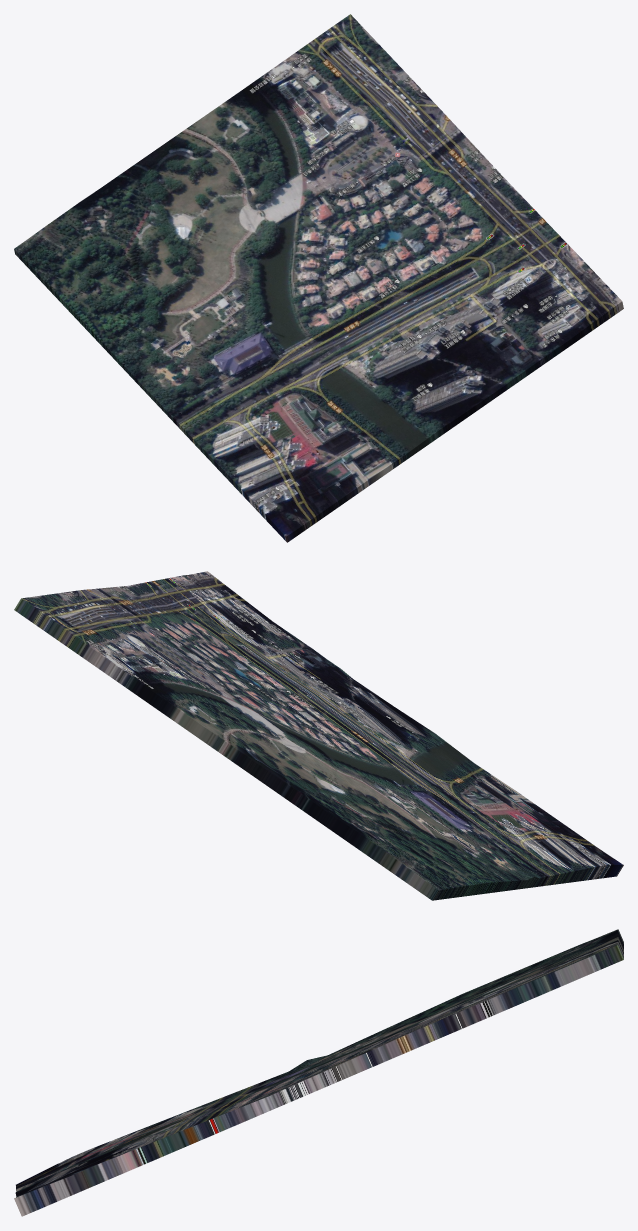
3 views of the same model, one above another, from view 1: azimuth 30°, elevation 25°; view 2: azimuth 150°, elevation 25°; view 3: azimuth 270°, elevation 25° (orthographic). The views are drawn at different scales.
Visible parts, largest first — view 1: 0_10_24; view 2: 0_10_24; view 3: 0_10_24.
Part boxes in pixels (x1,y1,x2,y2): 0_10_24: (14,14,623,542); 0_10_24: (14,571,623,900); 0_10_24: (14,929,623,1216).
Bounding box in the file's own units: 597 × 441 × 549.
1 material, 1 textured.
